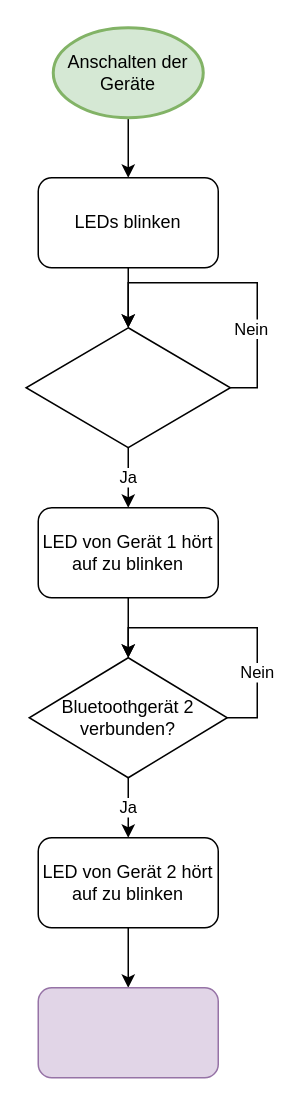
This 302x1104 diagram has some shape labels left out. The shapes that lost their labels are listed below. From the top down, each one's centre as x and y in pixels, then its label:
the point at 127,387: Bluetoothgerät 1 verbunden?
the point at 127,1032: Stand-by modus
